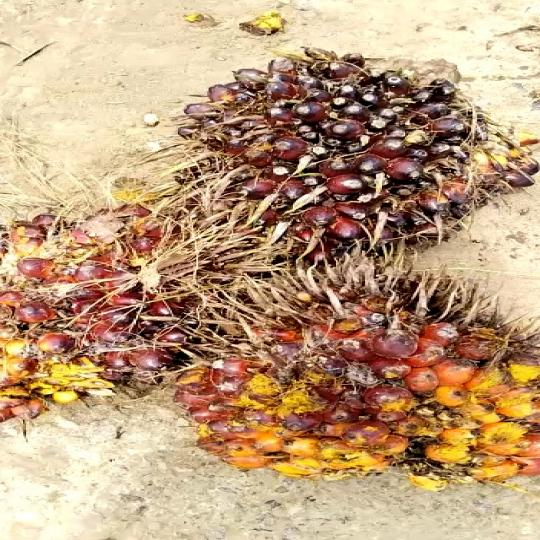masak: (154, 43, 540, 259), (187, 263, 540, 498), (0, 206, 280, 429)
